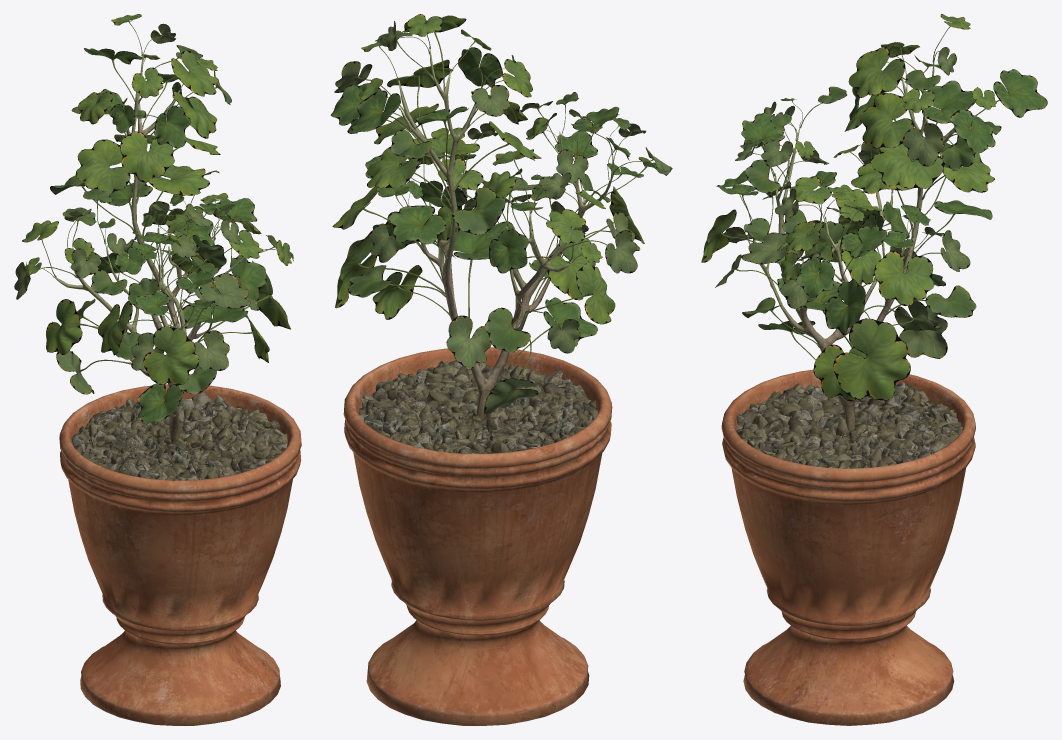
Rendered from potted_plant_01.glb.
The picture shows the model from 3 angles, left to right: view 1: azimuth 30°, elevation 25°; view 2: azimuth 150°, elevation 25°; view 3: azimuth 270°, elevation 25°; orthographic projection. The views are drawn at different scales.
Parts seen in each view (by area): view 1: potted_plant_01_stem, potted_plant_01_leaves; view 2: potted_plant_01_stem, potted_plant_01_leaves; view 3: potted_plant_01_stem, potted_plant_01_leaves.
Part boxes in pixels (left/top/right/bottom): potted_plant_01_stem: left=54, top=54, right=301, bottom=725; potted_plant_01_leaves: left=14, top=14, right=293, bottom=424; potted_plant_01_stem: left=343, top=48, right=613, bottom=725; potted_plant_01_leaves: left=331, top=14, right=672, bottom=414; potted_plant_01_stem: left=721, top=55, right=975, bottom=725; potted_plant_01_leaves: left=701, top=14, right=1047, bottom=401.
Size of the model in its own units: 0.5874 by 1.34 by 0.6336.
Materials: 2 (2 with a texture image).
